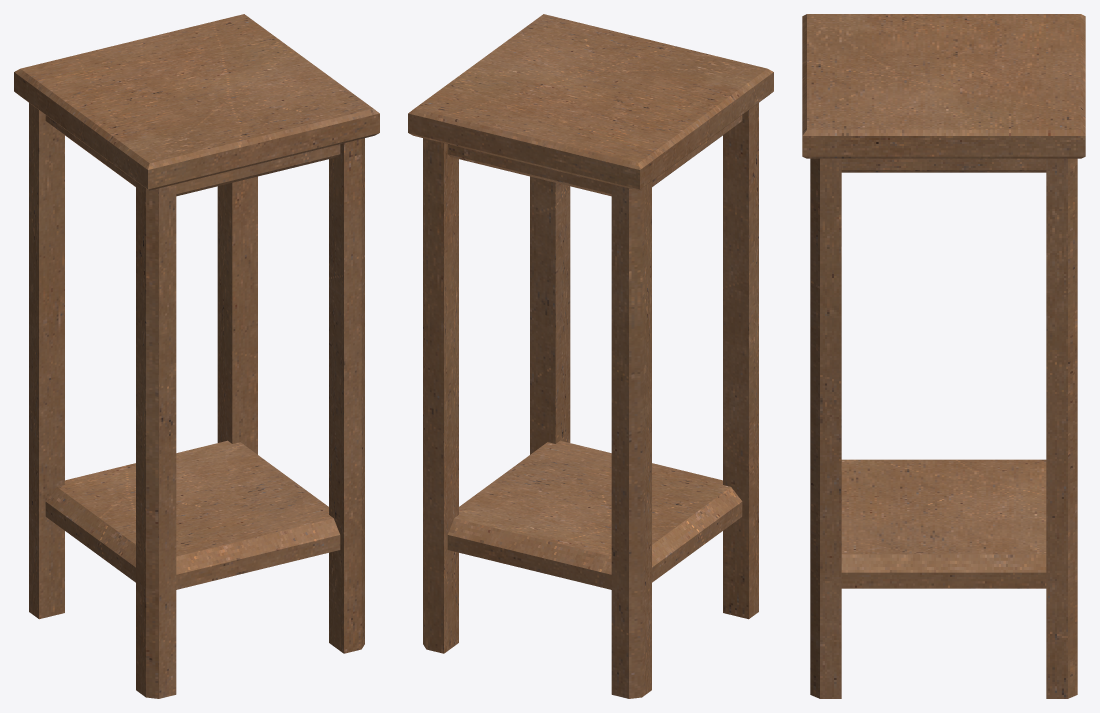
The model's file is Servis Masa.fbx.
3 views of the same model, side by side, from view 1: azimuth 30°, elevation 25°; view 2: azimuth 150°, elevation 25°; view 3: azimuth 270°, elevation 25° (orthographic). The views are drawn at different scales.
Parts seen in each view (by area): view 1: Servis Masa; view 2: Servis Masa; view 3: Servis Masa.
Boxes of the visible parts, bbox=[...] form: Servis Masa: bbox=[14, 14, 379, 698]; Servis Masa: bbox=[408, 14, 773, 698]; Servis Masa: bbox=[802, 14, 1085, 698].
Bounding box in the file's own units: 36 × 80 × 36.
1 material, 1 textured.
